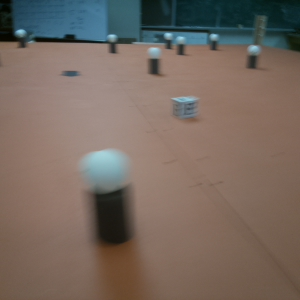obstacle: (78, 151, 143, 251), (146, 49, 163, 77), (246, 46, 261, 68), (106, 35, 119, 56), (175, 37, 187, 58), (15, 31, 28, 50), (209, 34, 218, 54), (164, 34, 173, 50)
